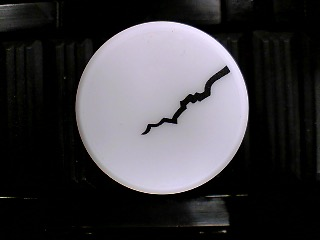CRACK: (74, 20, 250, 196)
